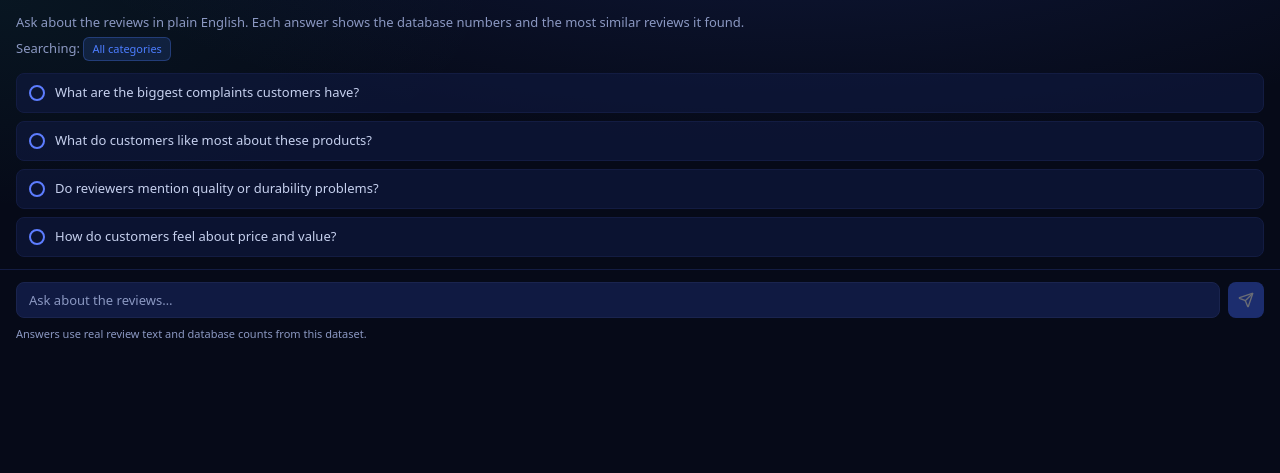
Test: AssistantChat › sends a suggested question to /assistant/chat and shows facts, evidence and the missing-LLM notice
Click the button "What are the biggest complaints customers have?" at {"x": 207, "y": 92}, box [16,73,1264,113]
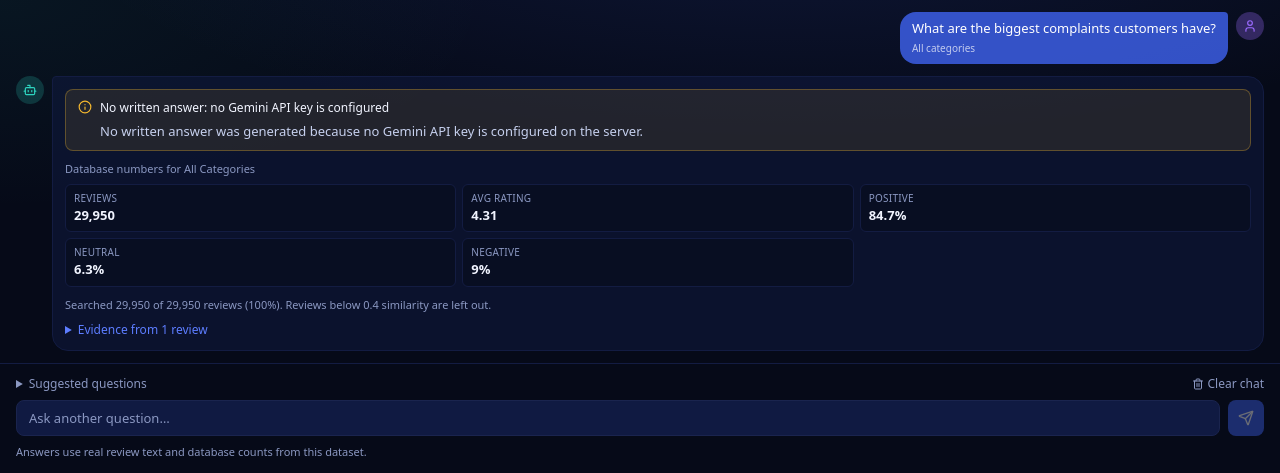
Check: the text "No written answer: no Gemini API key is configured" is shown, box [100,99,389,116]
Check: the text "29,950" is shown, box [74,206,115,224]
Check: the text "Searched 29,950 of 29,950 reviews (100%)" is shown, box [65,297,491,312]
